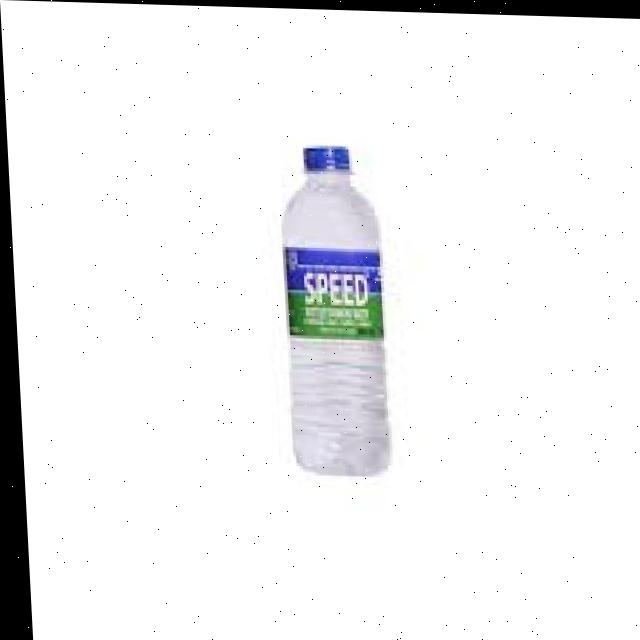bottle: (240, 129, 430, 598)
